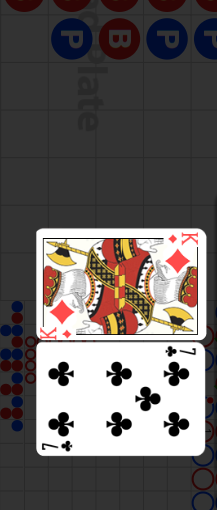7C: (40, 439, 75, 454)
KD: (167, 230, 200, 245)
